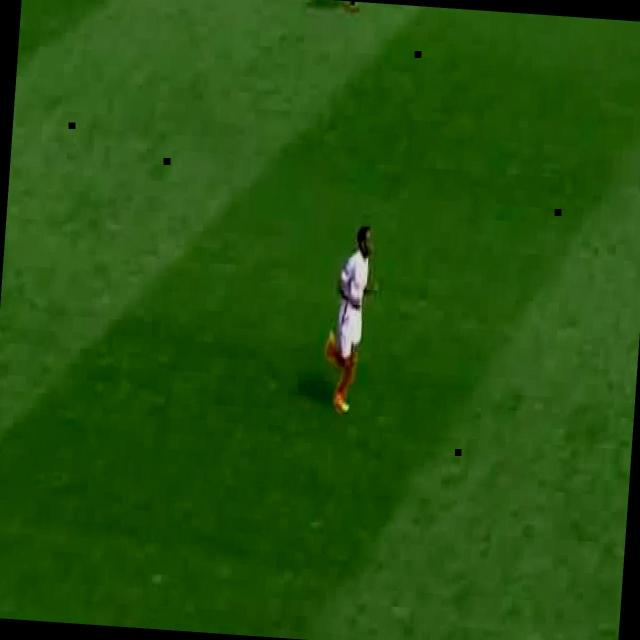player-white: (322, 223, 382, 417)
